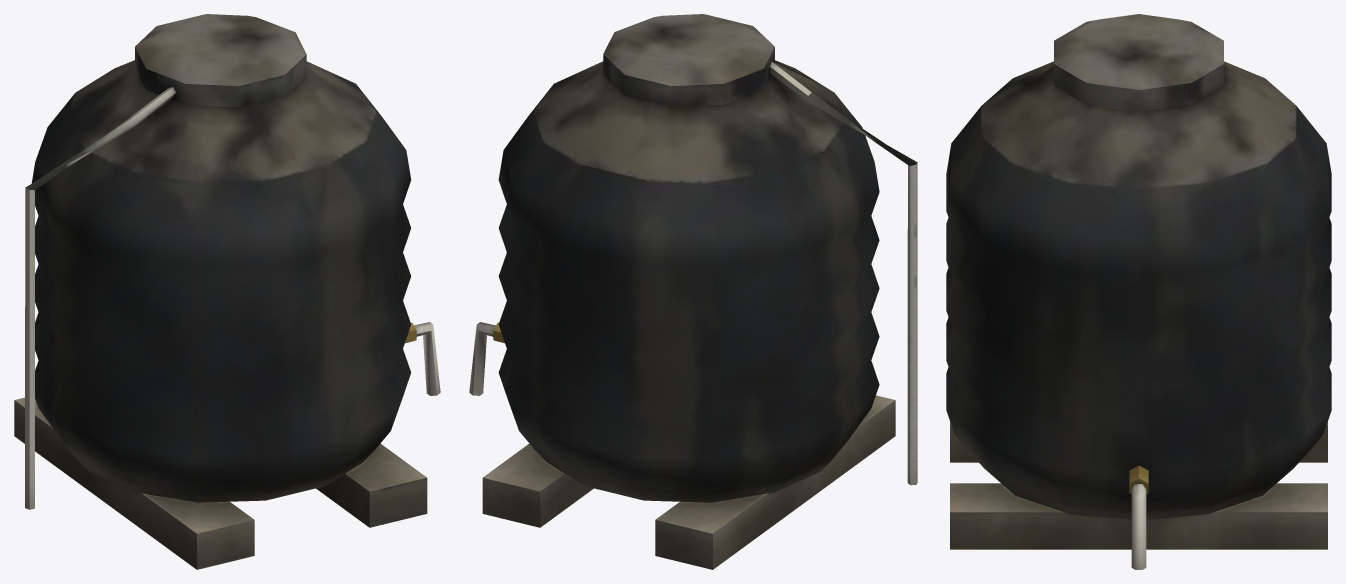
File: water_tank.glb
3 views of the same model, side by side, from view 1: azimuth 30°, elevation 25°; view 2: azimuth 150°, elevation 25°; view 3: azimuth 270°, elevation 25° (orthographic). The views are drawn at different scales.
Visible parts, largest first — view 1: body; view 2: body; view 3: body.
Boxes of the visible parts, bbox=[...] form: body: bbox=[14, 14, 440, 569]; body: bbox=[469, 14, 917, 569]; body: bbox=[946, 14, 1331, 569].
Bounding box in the file's own units: 1.49 × 1.44 × 1.12.
Materials: 1 (1 with a texture image).
